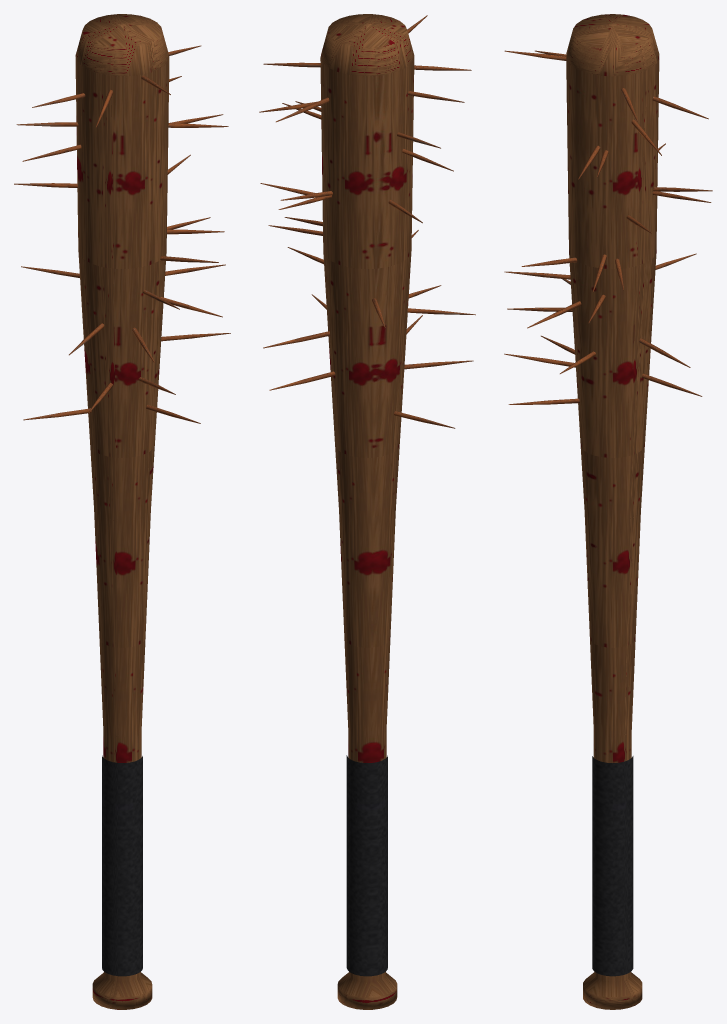
File: 釘バット_nailbat.glb
The picture shows the model from 3 angles, left to right: view 1: azimuth 30°, elevation 25°; view 2: azimuth 150°, elevation 25°; view 3: azimuth 270°, elevation 25°; orthographic projection.
Visible parts, largest first — view 1: nailbat; view 2: nailbat; view 3: nailbat.
Boxes of the visible parts, bbox=[...] form: nailbat: bbox=[14, 14, 230, 1009]; nailbat: bbox=[259, 14, 475, 1009]; nailbat: bbox=[504, 14, 712, 1009].
Bounding box in the file's own units: 0.1515 × 0.755 × 0.1461.
Materials: 3 (3 with a texture image).
